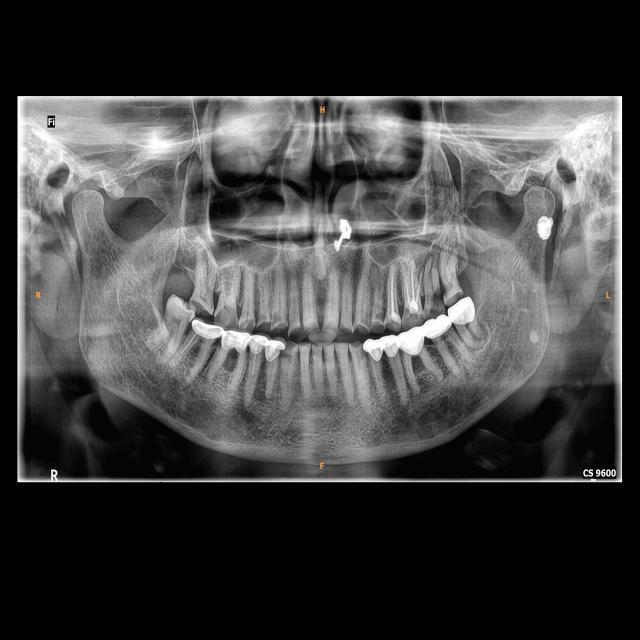dentin-curugu: (423, 288, 445, 316), (215, 304, 239, 326), (257, 316, 274, 331), (404, 306, 419, 322), (281, 350, 294, 366), (193, 299, 209, 312), (282, 341, 298, 353), (449, 288, 464, 300), (375, 308, 386, 324), (371, 321, 385, 332), (347, 340, 363, 349)
kanal-tedavisi: (182, 334, 210, 369)
kaplama: (189, 317, 223, 341), (395, 329, 425, 354), (220, 327, 248, 350), (449, 301, 475, 324), (424, 316, 450, 337), (364, 340, 383, 360), (248, 333, 267, 352), (382, 334, 399, 355), (266, 338, 282, 359)
